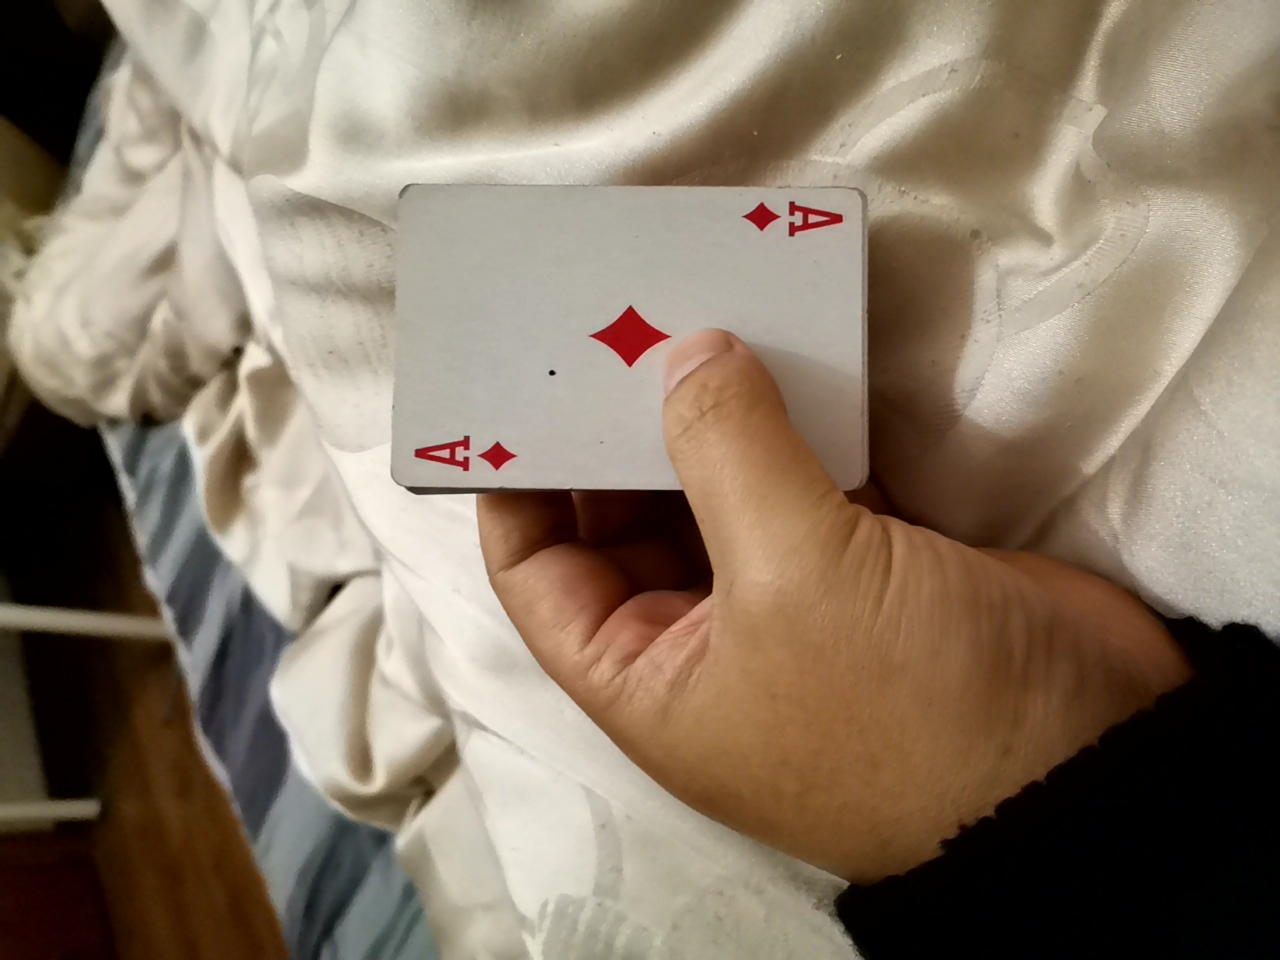fk a: (368, 137, 876, 514)
